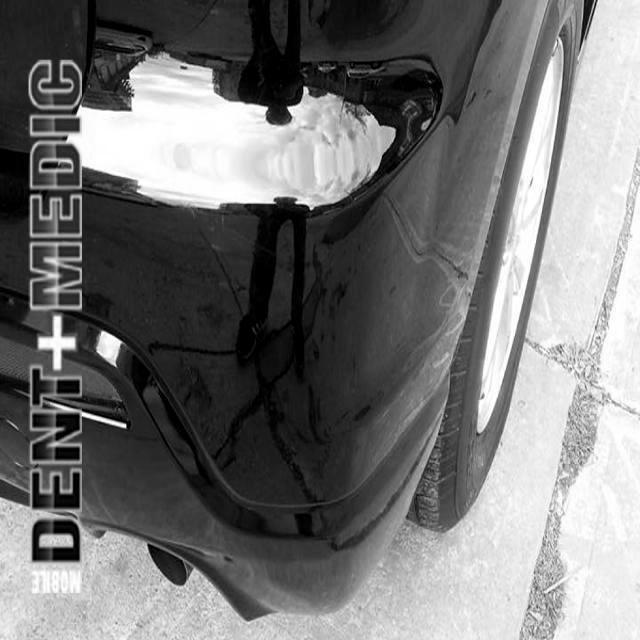rear-bumper-dent: (146, 140, 507, 614)
